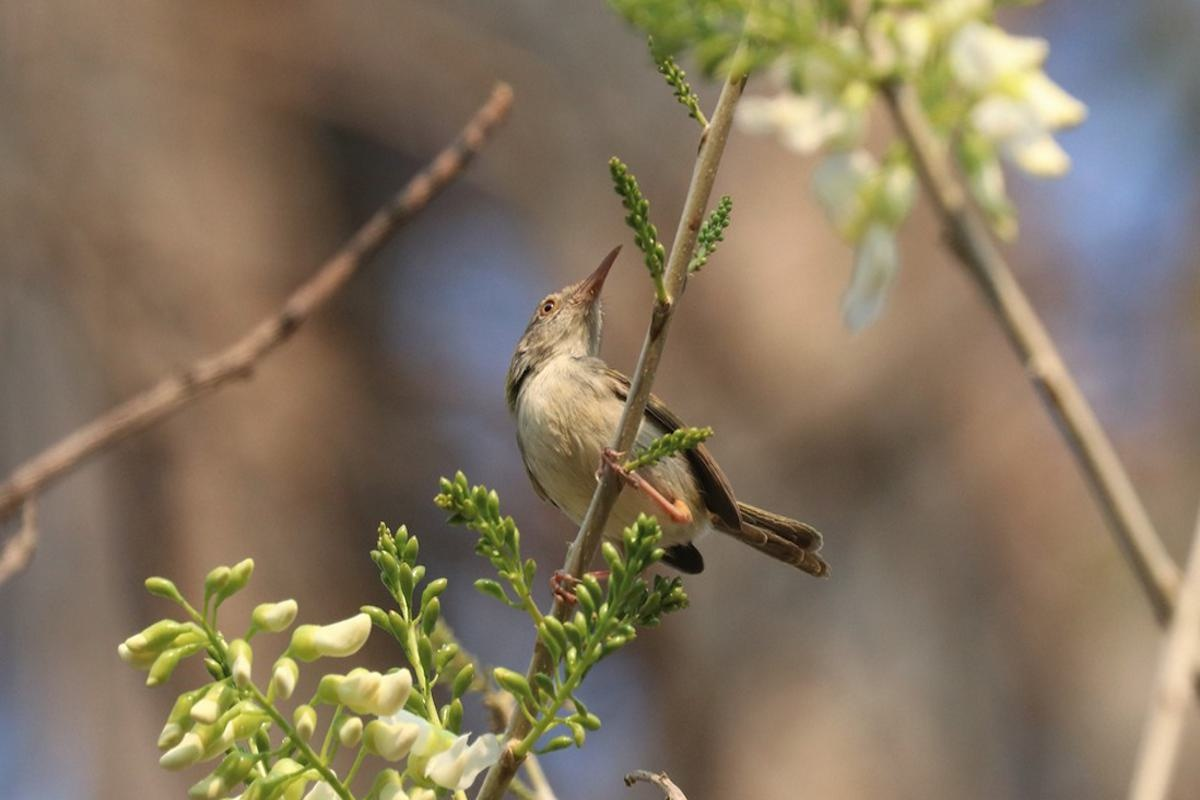tailorbird: (495, 247, 834, 630)
